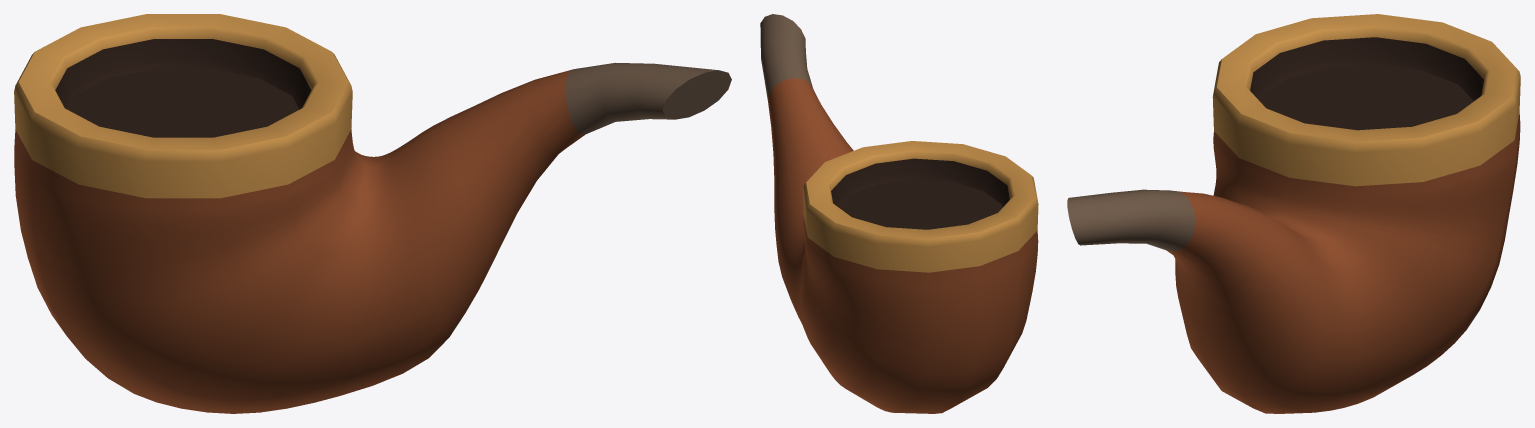
The model's file is Cosmetic_Detective_Pipe.glb.
The picture shows the model from 3 angles, left to right: view 1: azimuth 30°, elevation 25°; view 2: azimuth 150°, elevation 25°; view 3: azimuth 270°, elevation 25°; orthographic projection. The views are drawn at different scales.
Visible parts, largest first — view 1: Detective_Pipe; view 2: Detective_Pipe; view 3: Detective_Pipe.
Boxes of the visible parts, bbox=[...] form: Detective_Pipe: bbox=[14, 14, 731, 413]; Detective_Pipe: bbox=[760, 14, 1038, 413]; Detective_Pipe: bbox=[1067, 14, 1520, 413].
Size of the model in its own units: 0.2393 by 0.1546 by 0.1913.
